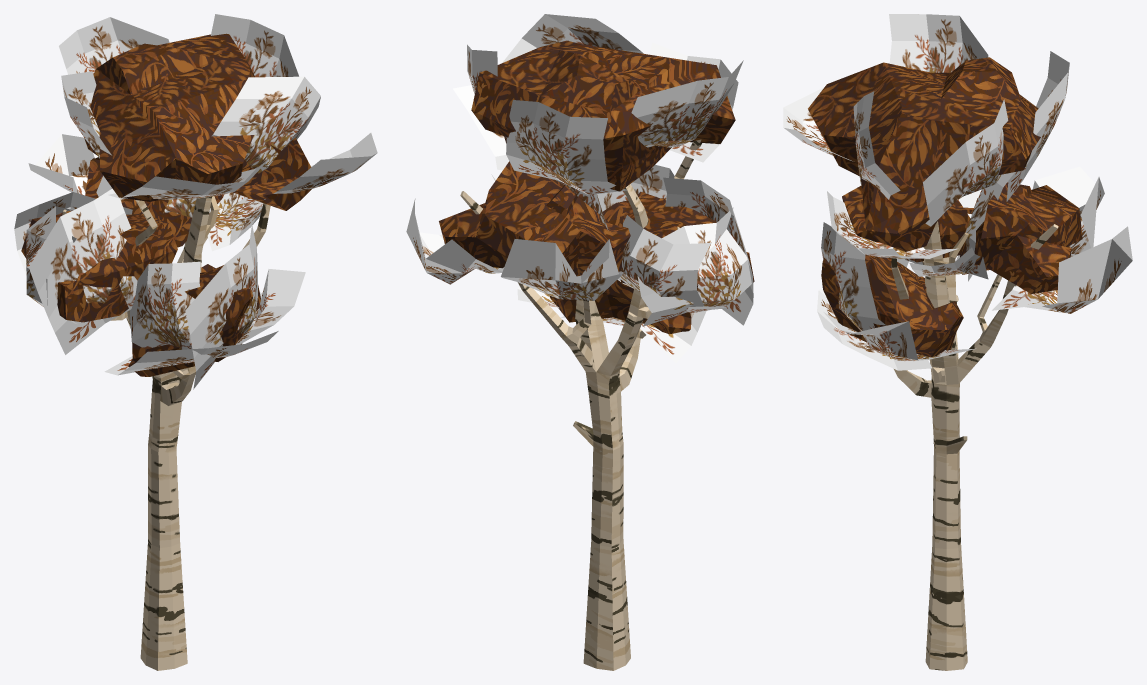
File: 1D_Tree_tall.fbx
3 renders of one model, left to right at view 1: azimuth 30°, elevation 25°; view 2: azimuth 150°, elevation 25°; view 3: azimuth 270°, elevation 25°, orthographic.
Parts seen in each view (by area): view 1: Tall_tree_leaves, Tall_tree_trunk; view 2: Tall_tree_trunk, Tall_tree_leaves; view 3: Tall_tree_trunk, Tall_tree_leaves.
Part boxes in pixels (x1,y1,x2,y2): Tall_tree_leaves: (14, 14, 377, 389); Tall_tree_trunk: (21, 33, 311, 670); Tall_tree_trunk: (439, 40, 754, 670); Tall_tree_leaves: (406, 14, 753, 362); Tall_tree_trunk: (808, 57, 1082, 670); Tall_tree_leaves: (783, 14, 1132, 370).
Bounding box in the file's own units: 7.17 × 13.05 × 6.87.
